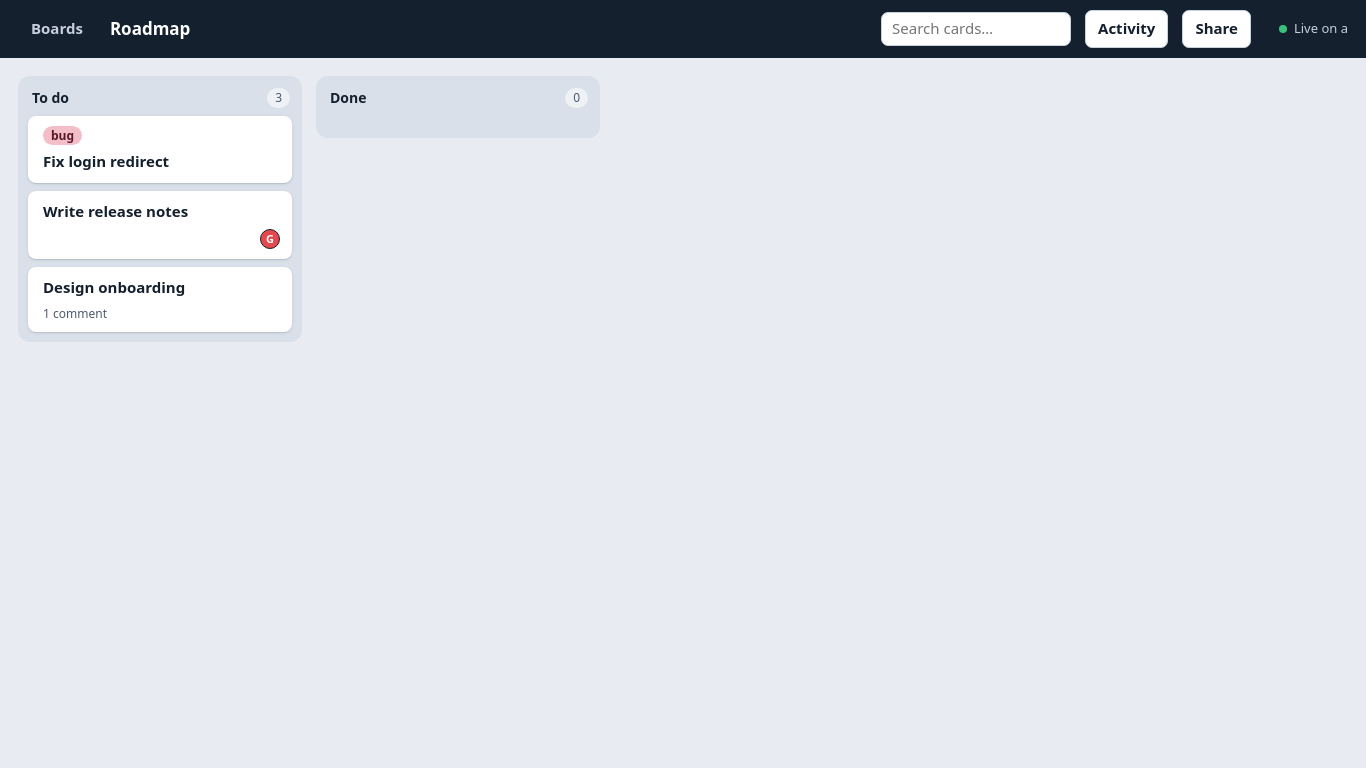
BoardView › roles › gives a viewer a read-only board
Click the text "Fix login redirect" at (106, 161), box [43,151,169,171]
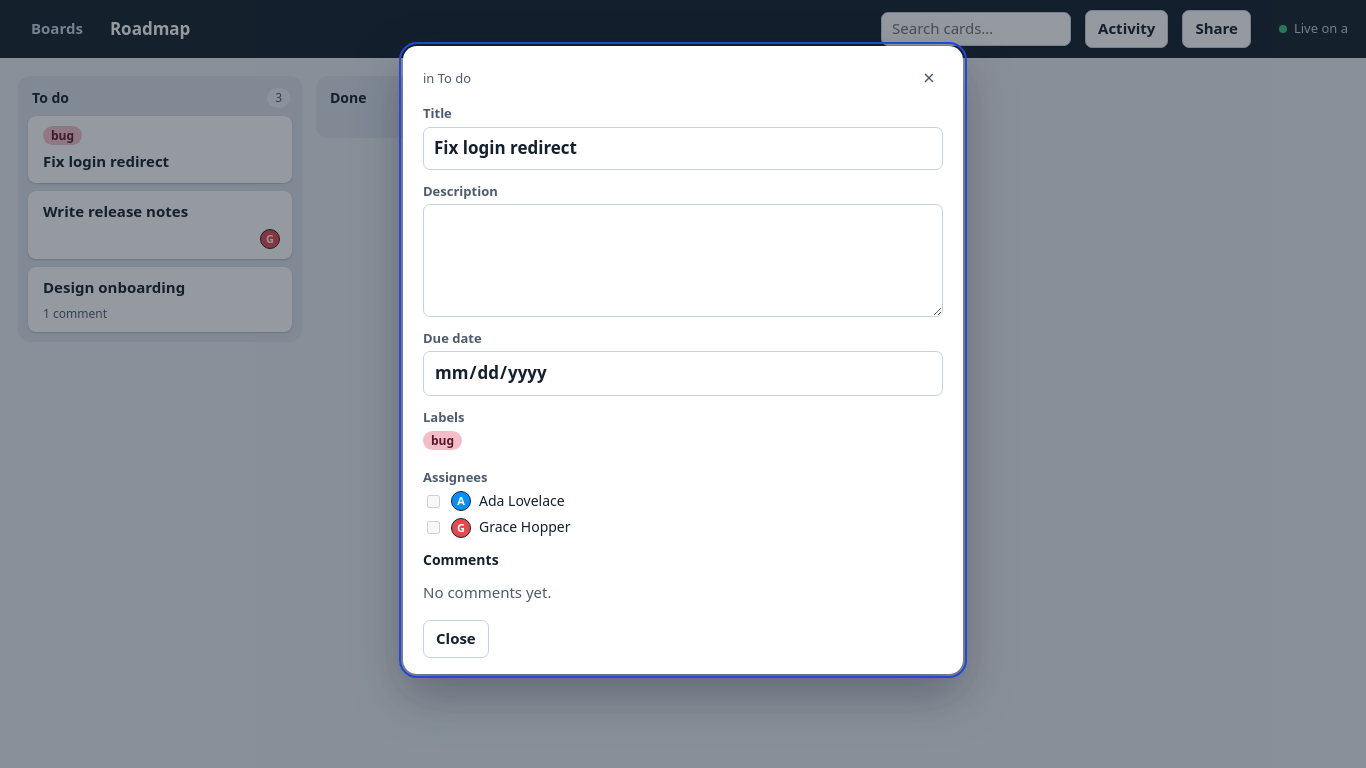
Expected: the dialog is shown, [403,46,963,674]
